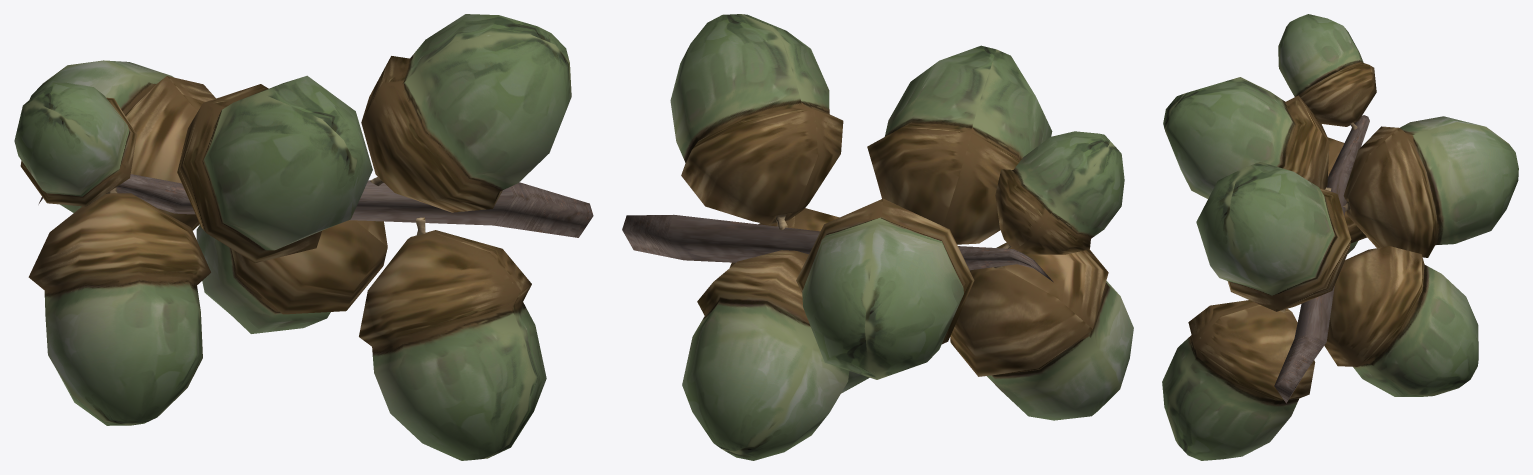
Rendered from quercus_fruit.fbx.
The picture shows the model from 3 angles, left to right: view 1: azimuth 30°, elevation 25°; view 2: azimuth 150°, elevation 25°; view 3: azimuth 270°, elevation 25°; orthographic projection. The views are drawn at different scales.
Parts seen in each view (by area): view 1: fruit_LOD0; view 2: fruit_LOD0; view 3: fruit_LOD0.
Boxes of the visible parts, x1,y1,x2,y2 form: fruit_LOD0: (14, 14, 593, 460); fruit_LOD0: (622, 14, 1133, 460); fruit_LOD0: (1162, 14, 1518, 460).
Size of what is drawn, in the model's own units: 68.17 by 48.18 by 50.07.
1 material, 1 textured.
